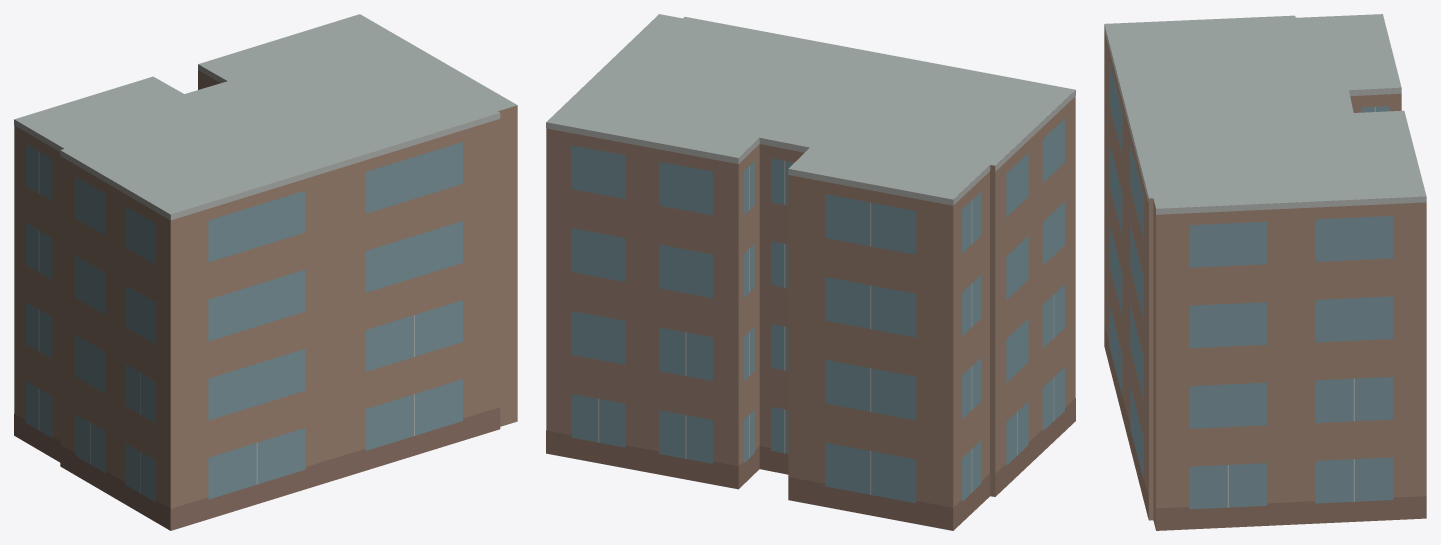
The model's file is survey-upis-32913528.glb.
3 views of the same model, side by side, from view 1: azimuth 30°, elevation 25°; view 2: azimuth 150°, elevation 25°; view 3: azimuth 270°, elevation 25° (orthographic). The views are drawn at different scales.
Parts seen in each view (by area): view 1: survey-upis-32913528.tmp; view 2: survey-upis-32913528.tmp; view 3: survey-upis-32913528.tmp.
Part boxes in pixels (x1,y1,x2,y2): survey-upis-32913528.tmp: (14, 14, 517, 530); survey-upis-32913528.tmp: (546, 14, 1075, 530); survey-upis-32913528.tmp: (1104, 14, 1426, 530).
Size of the model in its own units: 17.14 by 13.2 by 11.98.
